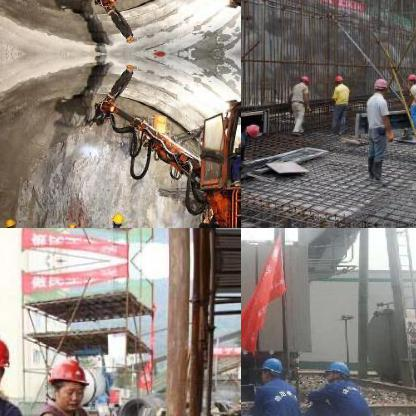Helmet: (41, 353, 89, 411), (0, 327, 16, 399), (322, 358, 350, 382), (258, 354, 282, 379), (109, 209, 129, 227), (372, 76, 386, 94), (244, 121, 258, 137), (3, 213, 15, 227), (406, 71, 415, 84), (298, 74, 308, 84), (66, 221, 79, 227), (334, 74, 342, 83)
